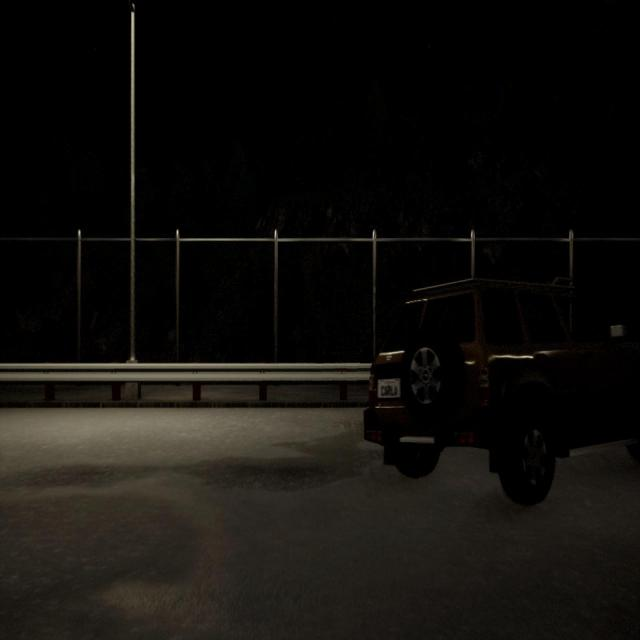Vehicle: (364, 279, 640, 504)
